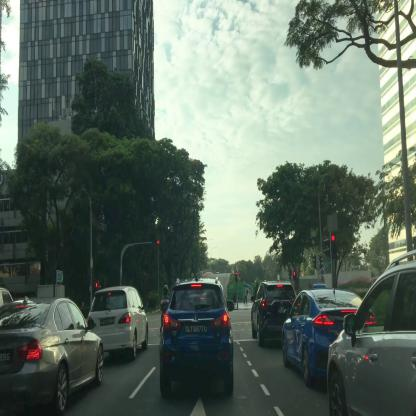red_traffic_light: (330, 235, 336, 258), (152, 240, 159, 245), (235, 271, 237, 282)
